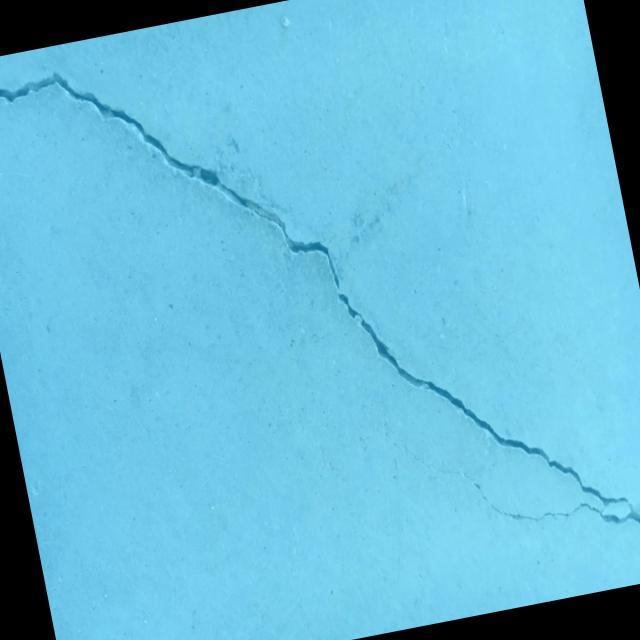crack: (0, 1, 341, 356), (337, 236, 640, 598)
